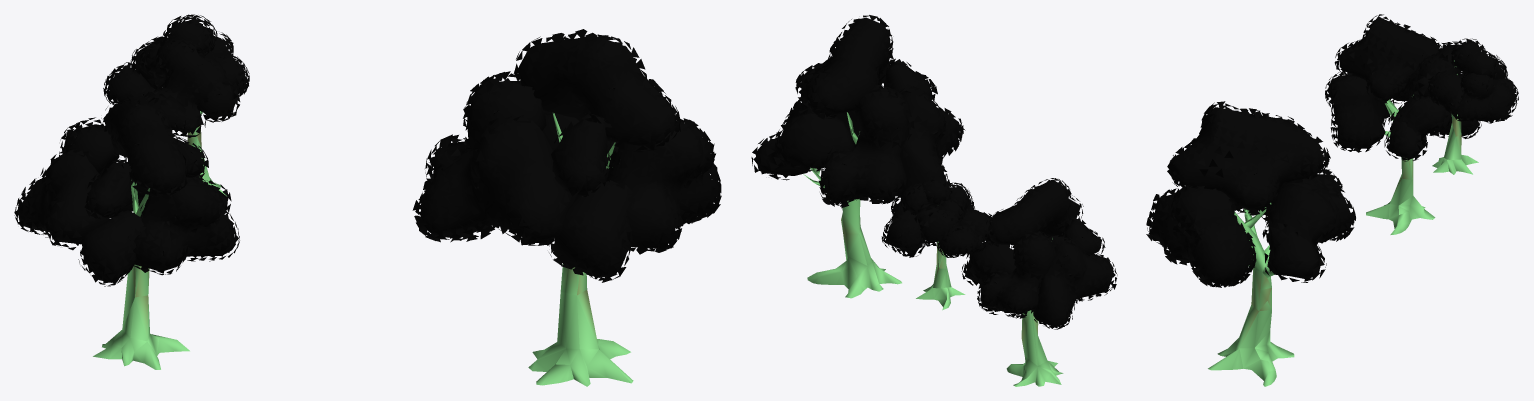
Rendered from SM_ENV_LKNVLD_TreeSet_M_Lod3.gltf.
The picture shows the model from 3 angles, left to right: view 1: azimuth 30°, elevation 25°; view 2: azimuth 150°, elevation 25°; view 3: azimuth 270°, elevation 25°; orthographic projection. The views are drawn at different scales.
Parts seen in each view (by area): view 1: SM_ENV_LKNVLD_TreeSet_M_Lod3; view 2: SM_ENV_LKNVLD_TreeSet_M_Lod3; view 3: SM_ENV_LKNVLD_TreeSet_M_Lod3.
Part boxes in pixels (x1,y1,x2,y2): SM_ENV_LKNVLD_TreeSet_M_Lod3: [14, 14, 721, 386]; SM_ENV_LKNVLD_TreeSet_M_Lod3: [751, 15, 1117, 386]; SM_ENV_LKNVLD_TreeSet_M_Lod3: [1146, 14, 1518, 386].
Size of the model in its own units: 30.59 by 18.39 by 23.68.
